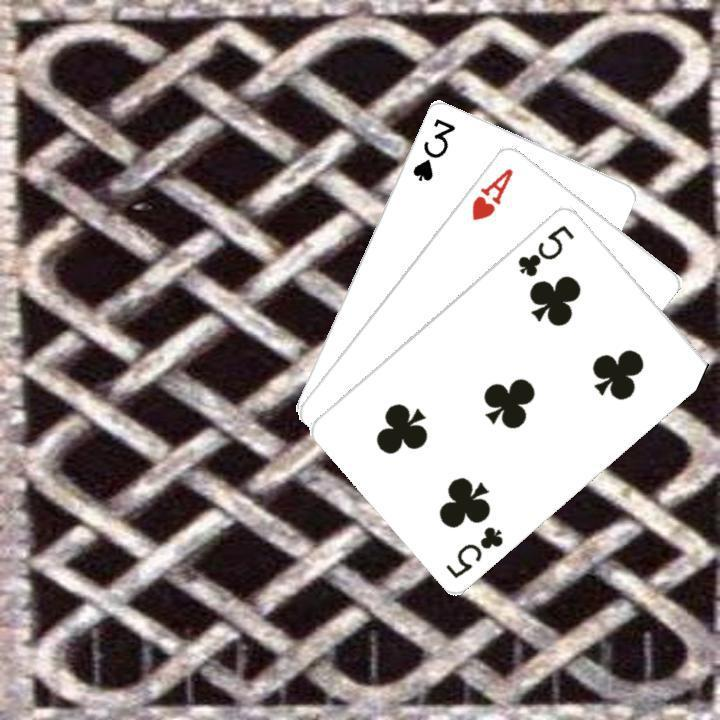3: (408, 113, 457, 183)
5: (441, 521, 506, 580), (513, 219, 576, 279)
A: (467, 163, 515, 223)
